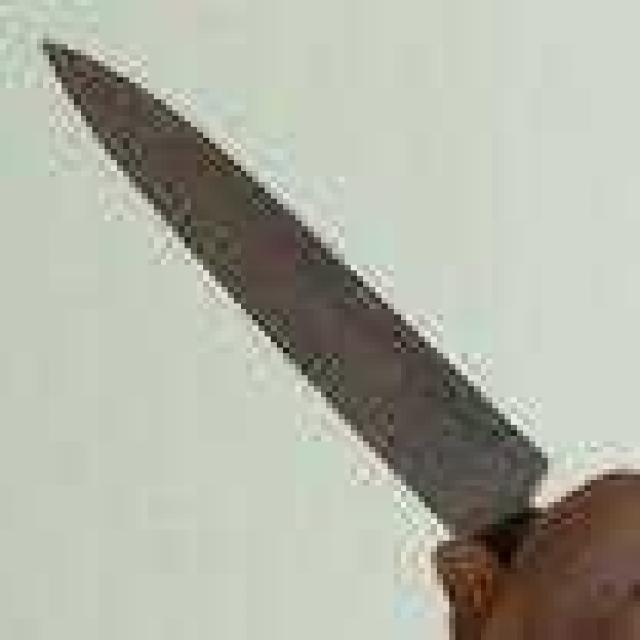Knife: (36, 36, 640, 640)
